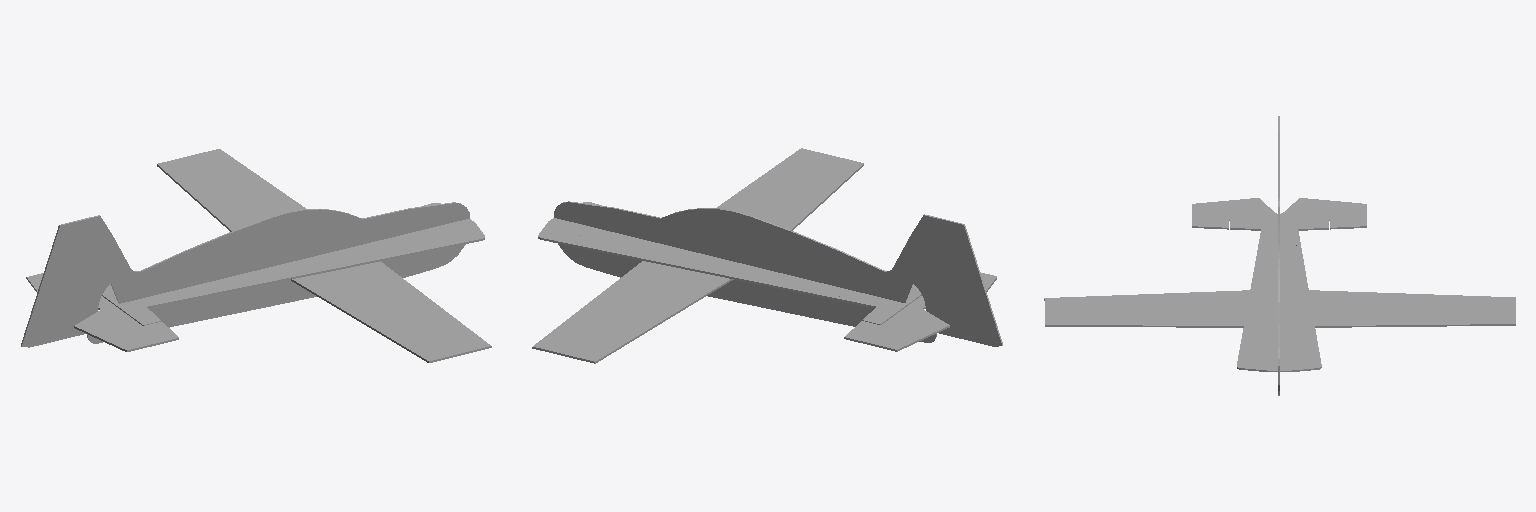
robot.urdf — glider:
<?xml version="1.0" encoding="utf-8"?>
<!-- This URDF was automatically created by SolidWorks to URDF Exporter! Originally created by [author] ([email redacted]) 
     Commit Version: 1.5.1-0-g916b5db  Build Version: 1.5.7152.31018
     For more information, please see http://wiki.ros.org/sw_urdf_exporter -->
<!-- Additional modifications by [author] -->
<robot
  name="glider">
  <link
    name="fuselage">
    <inertial>
      <origin
        xyz="-0.0818128241934648 -1.22124532708767E-15 -0.00908986598442222"
        rpy="0 0 0" />
      <mass
        value="0.00370301987946561" />
      <inertia
        ixx="2.07978185361861E-06"
        ixy="-6.51921720268355E-22"
        ixz="4.10535888298005E-07"
        iyy="6.8353862114488E-05"
        iyz="3.50540764772016E-22"
        izz="6.62780619947118E-05" />
    </inertial>
    <visual>
      <origin
        xyz="0 0 0"
        rpy="0 0 0" />
      <geometry>
        <mesh
          filename="meshes/fuselagev_main.obj" />
      </geometry>
      <material
        name="">
        <color
          rgba=".7 .7 .7 1" />
      </material>
    </visual>
    <collision>
      <origin
        xyz="0 0 0"
        rpy="0 0 0" />
      <geometry>
        <mesh
          filename="meshes/fuselagev_main.obj" />
      </geometry>
    </collision>
    <visual>
      <origin
        xyz="0 0 0"
        rpy="0 0 0" />
      <geometry>
        <mesh
          filename="meshes/fuselagev_top.obj" />
      </geometry>
      <material
        name="">
        <color
          rgba=".7 .7 .7 1" />
      </material>
    </visual>
    <collision>
      <origin
        xyz="0 0 0"
        rpy="0 0 0" />
      <geometry>
        <mesh
          filename="meshes/fuselagev_top.obj" />
      </geometry>
    </collision>
    <visual>
      <origin
        xyz="0 0 0"
        rpy="0 0 0" />
      <geometry>
        <mesh
          filename="meshes/fuselagev_vstab.obj" />
      </geometry>
      <material
        name="">
        <color
          rgba=".7 .7 .7 1" />
      </material>
    </visual>
    <collision>
      <origin
        xyz="0 0 0"
        rpy="0 0 0" />
      <geometry>
        <mesh
          filename="meshes/fuselagev_vstab.obj" />
      </geometry>
    </collision>
    <visual>
      <origin
        xyz="0 0 0"
        rpy="0 0 0" />
      <geometry>
        <mesh
          filename="meshes/fuselageh_main.obj" />
      </geometry>
      <material
        name="">
        <color
          rgba=".7 .7 .7 1" />
      </material>
    </visual>
    <collision>
      <origin
        xyz="0 0 0"
        rpy="0 0 0" />
      <geometry>
        <mesh
          filename="meshes/fuselageh_main.obj" />
      </geometry>
    </collision>
    <visual>
      <origin
        xyz="0 0 0"
        rpy="0 0 0" />
      <geometry>
        <mesh
          filename="meshes/fuselageh_hstab.obj" />
      </geometry>
      <material
        name="">
        <color
          rgba=".7 .7 .7 1" />
      </material>
    </visual>
    <collision>
      <origin
        xyz="0 0 0"
        rpy="0 0 0" />
      <geometry>
        <mesh
          filename="meshes/fuselageh_hstab.obj" />
      </geometry>
    </collision>
    <visual>
      <origin
        xyz="0 0 0"
        rpy="0 0 0" />
      <geometry>
        <mesh
          filename="meshes/wing_left.obj" />
      </geometry>
      <material
        name="">
        <color
          rgba=".7 .7 .7 1" />
      </material>
    </visual>
    <collision>
      <origin
        xyz="0 0 0"
        rpy="0 0 0" />
      <geometry>
        <mesh
          filename="meshes/wing_left.obj" />
      </geometry>
    </collision>
    <visual>
      <origin
        xyz="0 0 0"
        rpy="0 0 0" />
      <geometry>
        <mesh
          filename="meshes/wing_right.obj" />
      </geometry>
      <material
        name="">
        <color
          rgba=".7 .7 .7 1" />
      </material>
    </visual>
    <collision>
      <origin
        xyz="0 0 0"
        rpy="0 0 0" />
      <geometry>
        <mesh
          filename="meshes/wing_right.obj" />
      </geometry>
    </collision>
  </link>
  <link
    name="elevator">
    <inertial>
      <origin
        xyz="-0.0233269083291484 5.1589050238332E-05 -2.16840434497101E-19"
        rpy="0 0 0" />
      <mass
        value="0.00149262442134654" />
      <inertia
        ixx="7.52285851301533E-06"
        ixy="-1.45222492008535E-12"
        ixz="1.75768911831126E-23"
        iyy="6.94987923385513E-07"
        iyz="-1.92169321155844E-23"
        izz="8.21624146684023E-06" />
    </inertial>
    <visual>
      <origin
        xyz="0 0 0"
        rpy="0 0 0" />
      <geometry>
        <mesh
          filename="meshes/elevator.obj" />
      </geometry>
      <material
        name="">
        <color
          rgba=".7 .7 .7 1" />
      </material>
    </visual>
    <collision>
      <origin
        xyz="0 0 0"
        rpy="0 0 0" />
      <geometry>
        <mesh
          filename="meshes/elevator.obj" />
      </geometry>
    </collision>
  </link>
  <joint
    name="elevator_hinge"
    type="revolute">
    <origin
      xyz="-0.317 0 0"
      rpy="0 0 0" />
    <parent
      link="fuselage" />
    <child
      link="elevator" />
    <axis
      xyz="0 1 0" />
    <limit
      lower="-0.9473"
      upper="0.4463"
      effort="0"
      velocity="0" />
  </joint>
</robot>

--- What the picture shows (computed from the rendered views, not written in the file) ---
3 views of the same robot in one strip: view 1: azimuth 30°, elevation 25°; view 2: azimuth 150°, elevation 25°; view 3: azimuth 270°, elevation 25° (orthographic).
Robot: glider — 2 links, 1 joints (1 revolute); root link fuselage; default pose: every joint at zero.
Visible links, largest first — view 1: fuselage, elevator; view 2: fuselage, elevator; view 3: fuselage, elevator.
Link boxes in pixels (x1=…): fuselage: x1=21, y1=149, x2=491, y2=362; elevator: x1=26, y1=273, x2=178, y2=351; fuselage: x1=532, y1=148, x2=1002, y2=363; elevator: x1=844, y1=272, x2=996, y2=351; fuselage: x1=1044, y1=116, x2=1515, y2=395; elevator: x1=1192, y1=198, x2=1366, y2=229.
Bounding box of the posed robot: 0.5929 × 0.6197 × 0.1725 m (x, y, z).
Meshes: 8 distinct files referenced, 8 mesh visuals loaded (8 OBJ).
